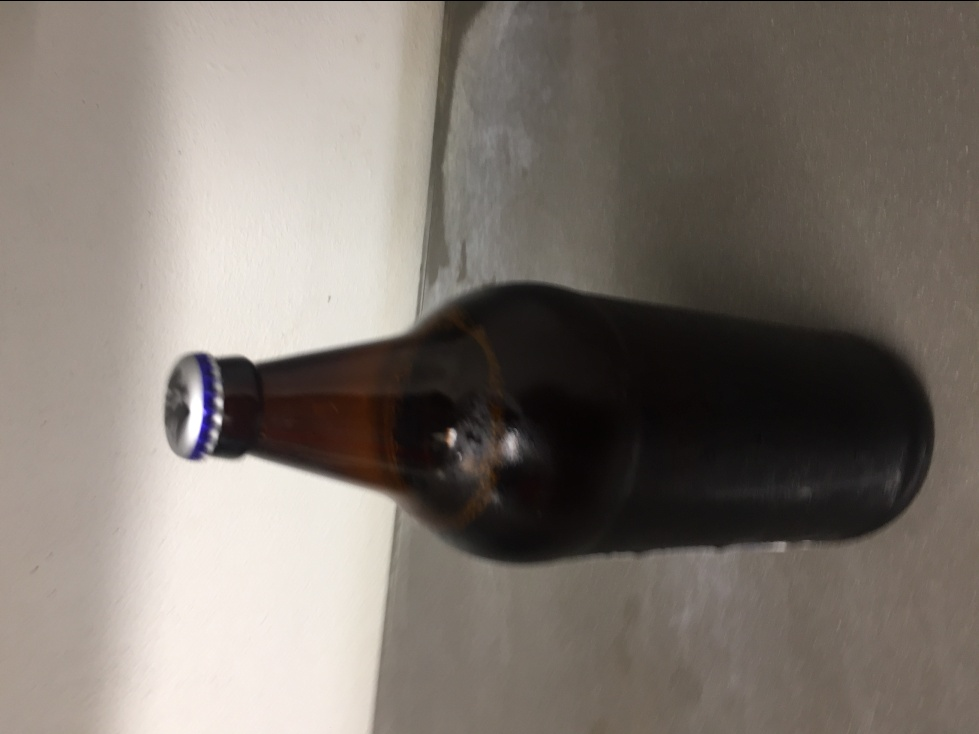tecateC: (160, 277, 935, 557)
